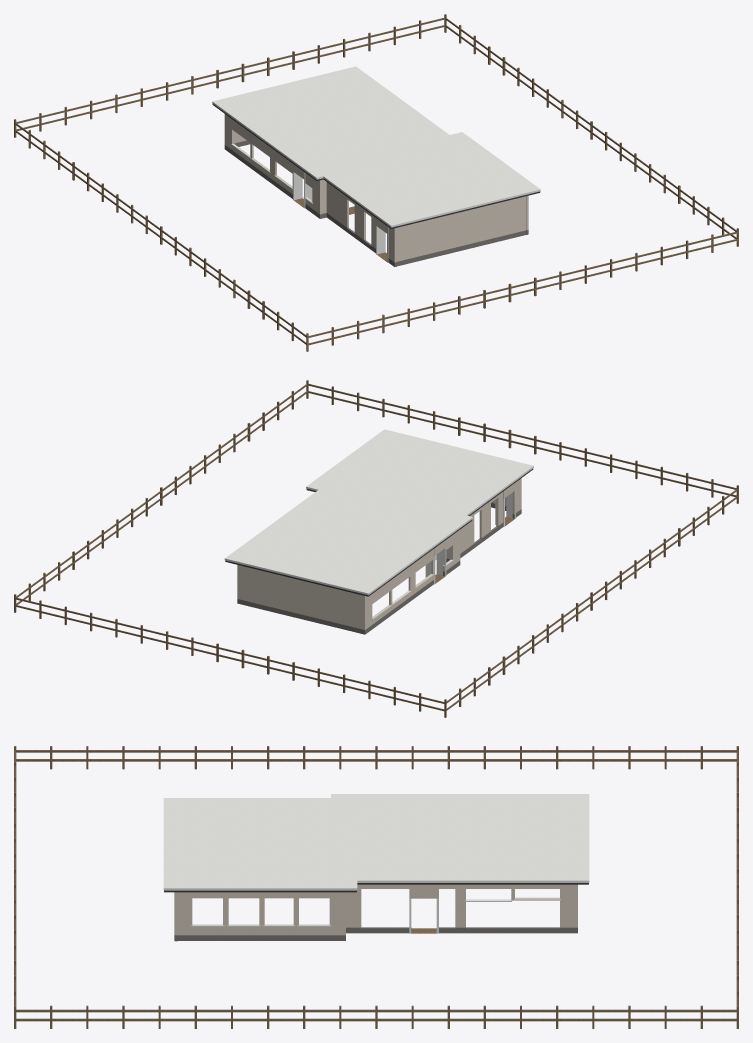
Rendered from big_school_exterior.glb.
3 views of the same model, one above another, from view 1: azimuth 30°, elevation 25°; view 2: azimuth 150°, elevation 25°; view 3: azimuth 270°, elevation 25° (orthographic). The views are drawn at different scales.
Visible parts, largest first — view 1: exterior; view 2: exterior; view 3: exterior.
Part boxes in pixels (left/top/right/bottom): exterior: left=14, top=14, right=738, bottom=351; exterior: left=14, top=380, right=738, bottom=717; exterior: left=14, top=746, right=738, bottom=1028.
Size of the model in its own units: 34.12 by 3.51 by 40.12.
Materials: 5 (5 with a texture image).
